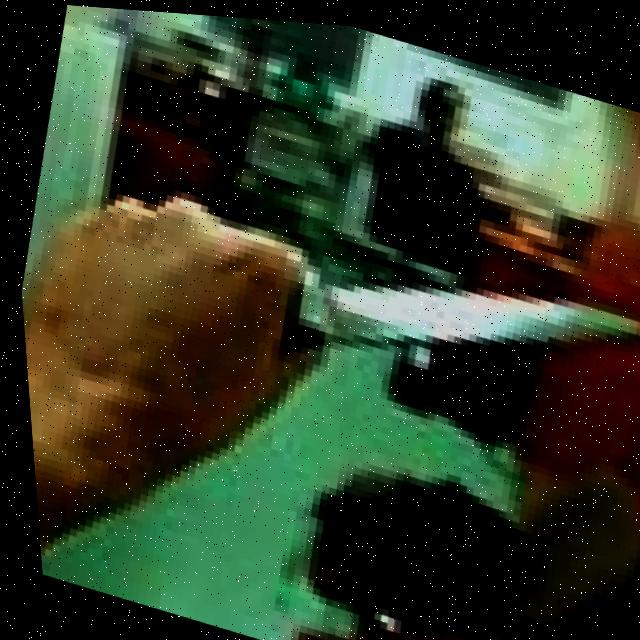knife: (263, 182, 640, 451)
